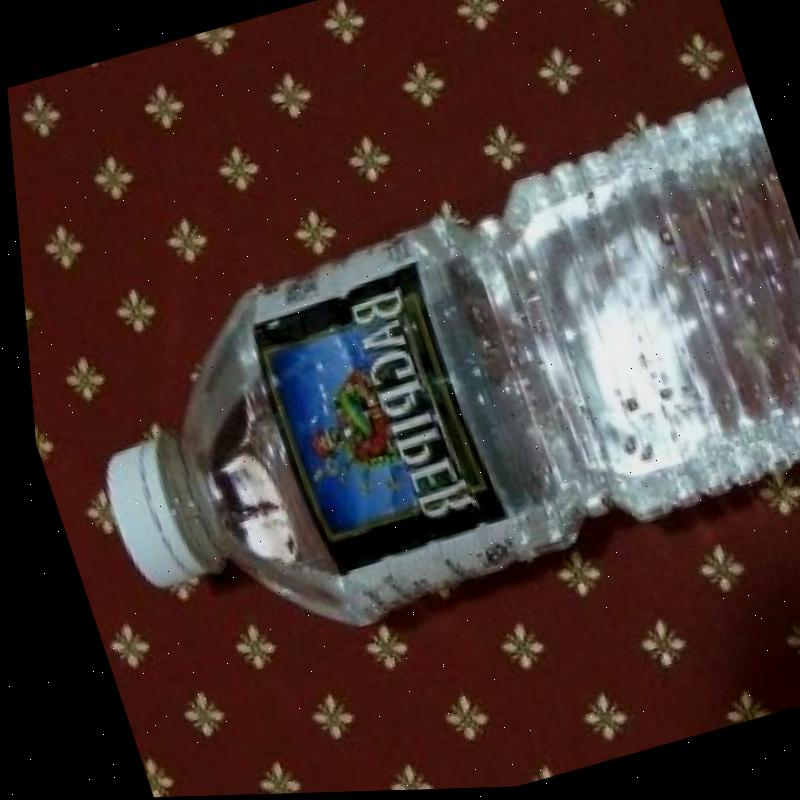botella: (16, 82, 800, 689)
